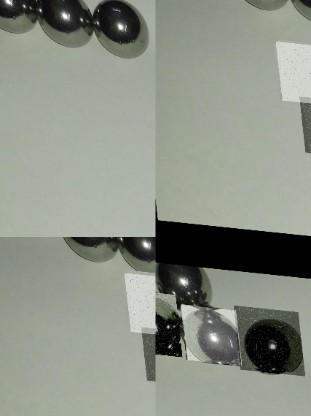ironball: (231, 300, 302, 370), (90, 0, 150, 61), (179, 301, 239, 360), (33, 0, 98, 51), (155, 259, 216, 304), (272, 38, 311, 102), (120, 269, 155, 333), (59, 237, 121, 266), (155, 286, 179, 353), (0, 0, 40, 36), (114, 236, 153, 271), (136, 323, 155, 381), (294, 93, 311, 154)
